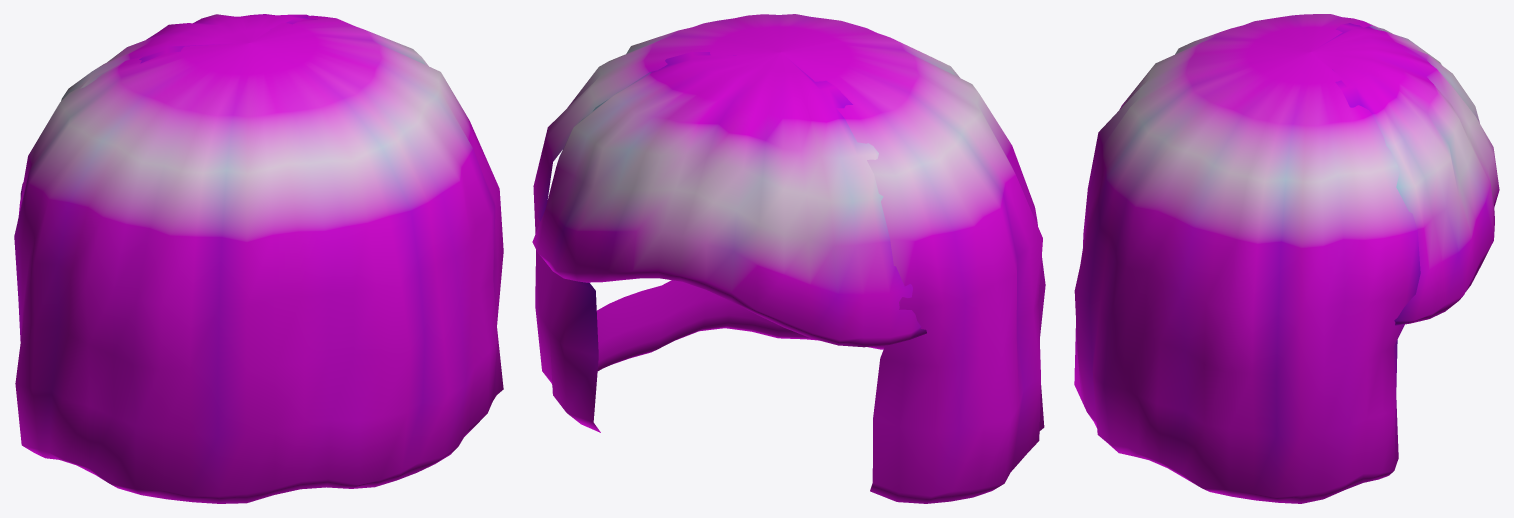
Rendered from curly_low.glb.
3 renders of one model, left to right at view 1: azimuth 30°, elevation 25°; view 2: azimuth 150°, elevation 25°; view 3: azimuth 270°, elevation 25°, orthographic. The views are drawn at different scales.
Visible parts, largest first — view 1: curly; view 2: curly; view 3: curly.
Boxes of the visible parts, left/top/right/bottom form: curly: left=14, top=14, right=503, bottom=503; curly: left=532, top=14, right=1045, bottom=503; curly: left=1074, top=14, right=1499, bottom=503.
Size of the model in its own units: 1.17 by 0.8988 by 0.9778.
